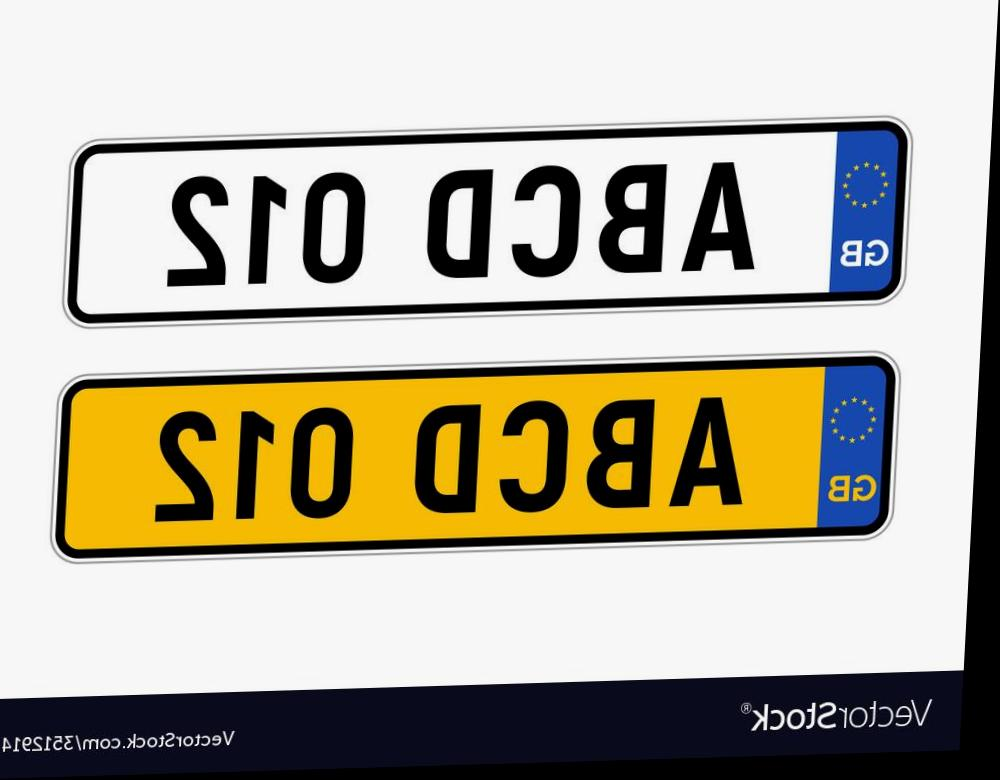License_Plate: (63, 111, 919, 330), (48, 349, 904, 564)
